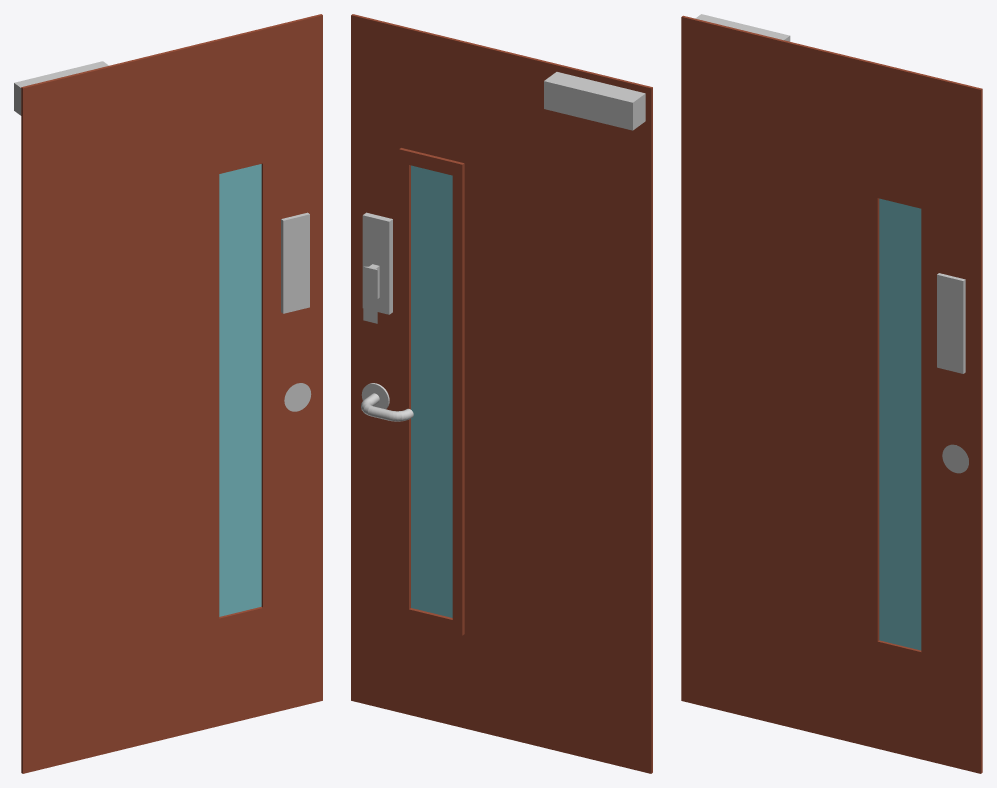
Rendered from Door.fbx.
3 renders of one model, left to right at view 1: azimuth 30°, elevation 25°; view 2: azimuth 150°, elevation 25°; view 3: azimuth 330°, elevation 25°, orthographic.
Visible parts, largest first — view 1: Plane.003; view 2: Plane.003; view 3: Plane.003.
Part boxes in pixels (x1=…): Plane.003: x1=14, y1=14, x2=322, y2=773; Plane.003: x1=351, y1=14, x2=652, y2=773; Plane.003: x1=681, y1=14, x2=982, y2=773.
Bounding box in the file's own units: 76.63 × 167 × 9.68.
